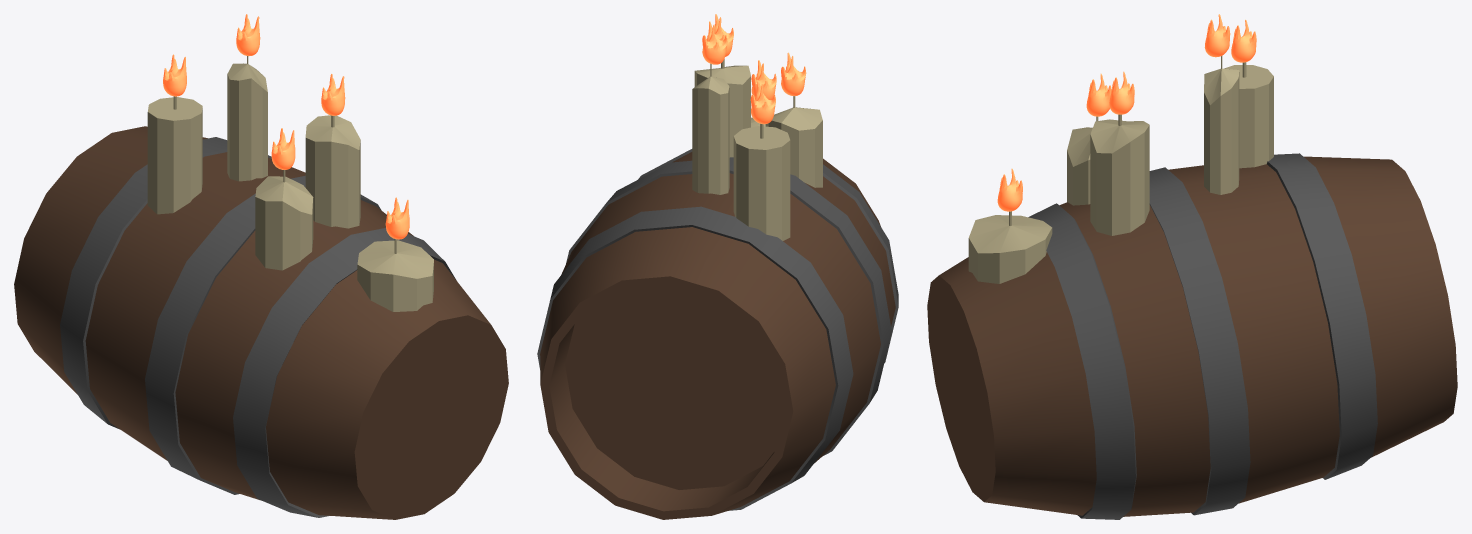
The model's file is Barile + candele.fbx.
3 renders of one model, left to right at view 1: azimuth 30°, elevation 25°; view 2: azimuth 150°, elevation 25°; view 3: azimuth 270°, elevation 25°, orthographic. The views are drawn at different scales.
Visible parts, largest first — view 1: T. Barrel 1 .005; view 2: T. Barrel 1 .005; view 3: T. Barrel 1 .005.
Boxes of the visible parts, <box> form: T. Barrel 1 .005: <box>14,14,508,519</box>; T. Barrel 1 .005: <box>537,14,898,519</box>; T. Barrel 1 .005: <box>927,14,1457,519</box>.
Size of the model in its own units: 155 by 215 by 214.
